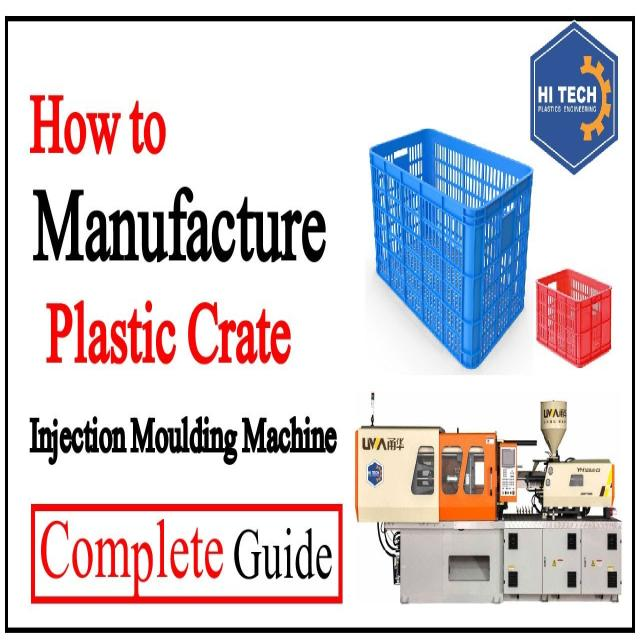basket: (357, 124, 536, 372), (537, 268, 613, 367)
